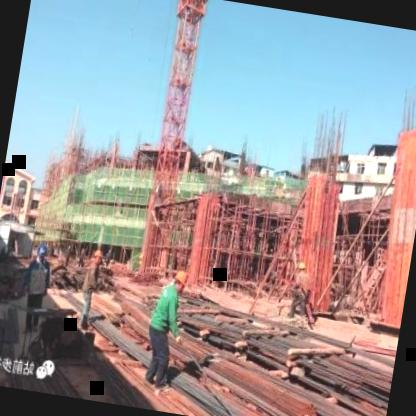helmet: (170, 268, 191, 296), (32, 242, 50, 262), (91, 244, 106, 264), (295, 257, 307, 276)
